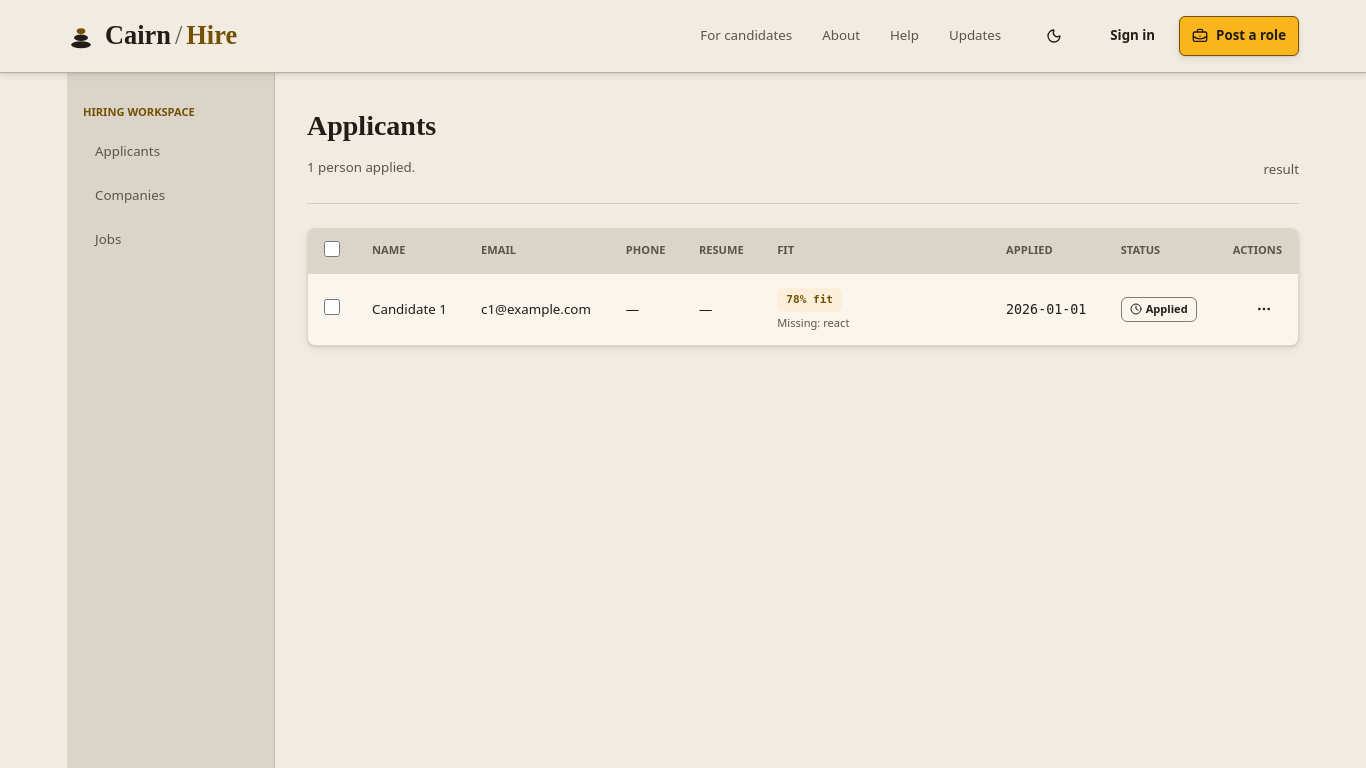
Test: Applicants › keeps the selection when the dialog is cancelled
This screenshot has width=1366, height=768.
Click the checkbox named "Select Candidate 1": [332, 307] box [324, 299, 340, 315]
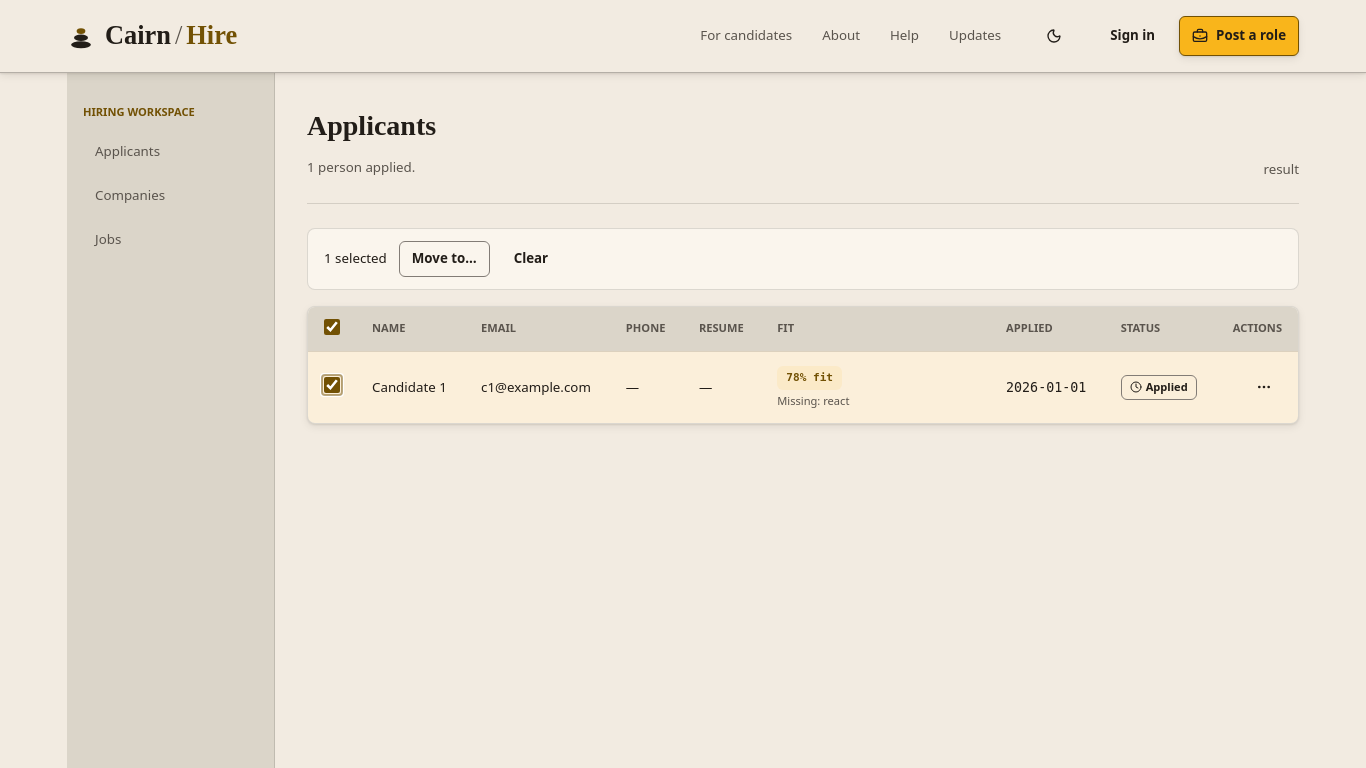
Click the button "Move to…": [444, 259] box [399, 241, 490, 277]
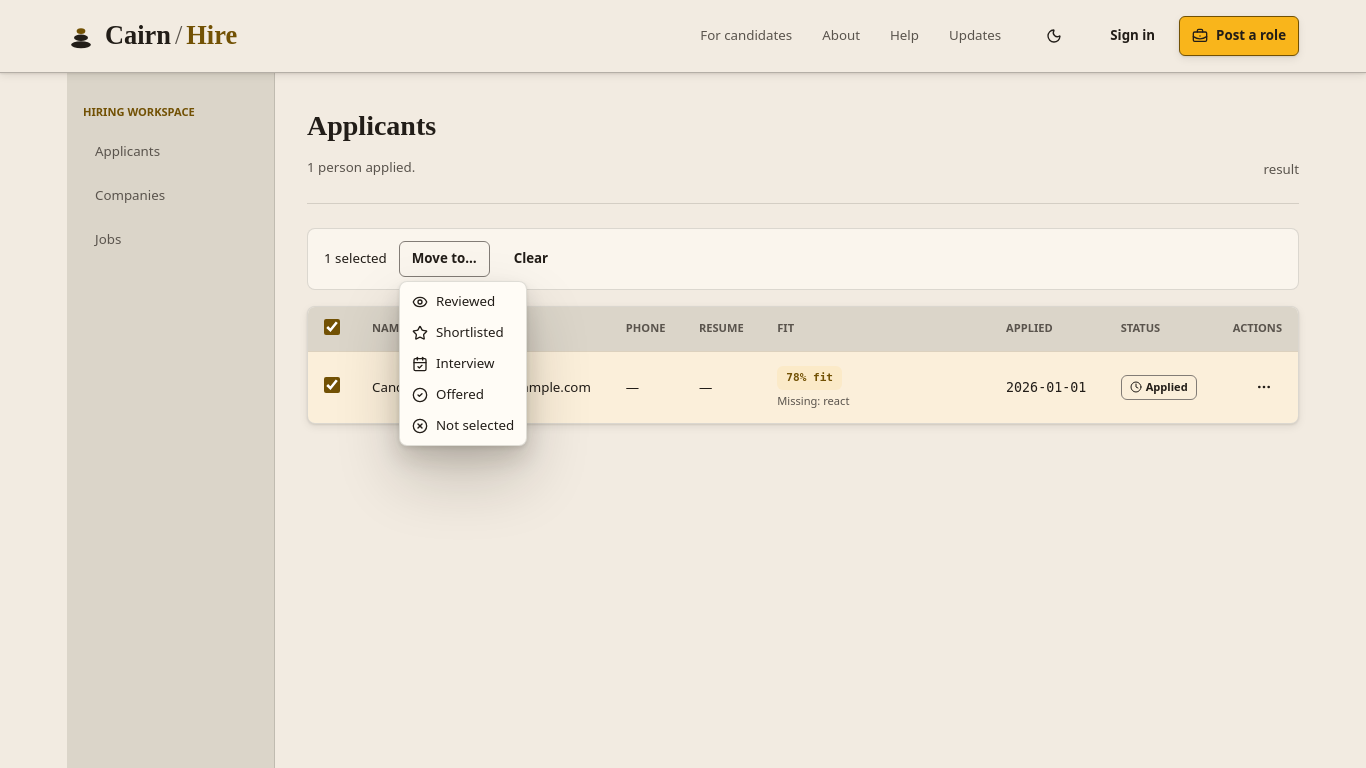
Click the menu item "Shortlisted": [458, 332] box [412, 323, 504, 341]
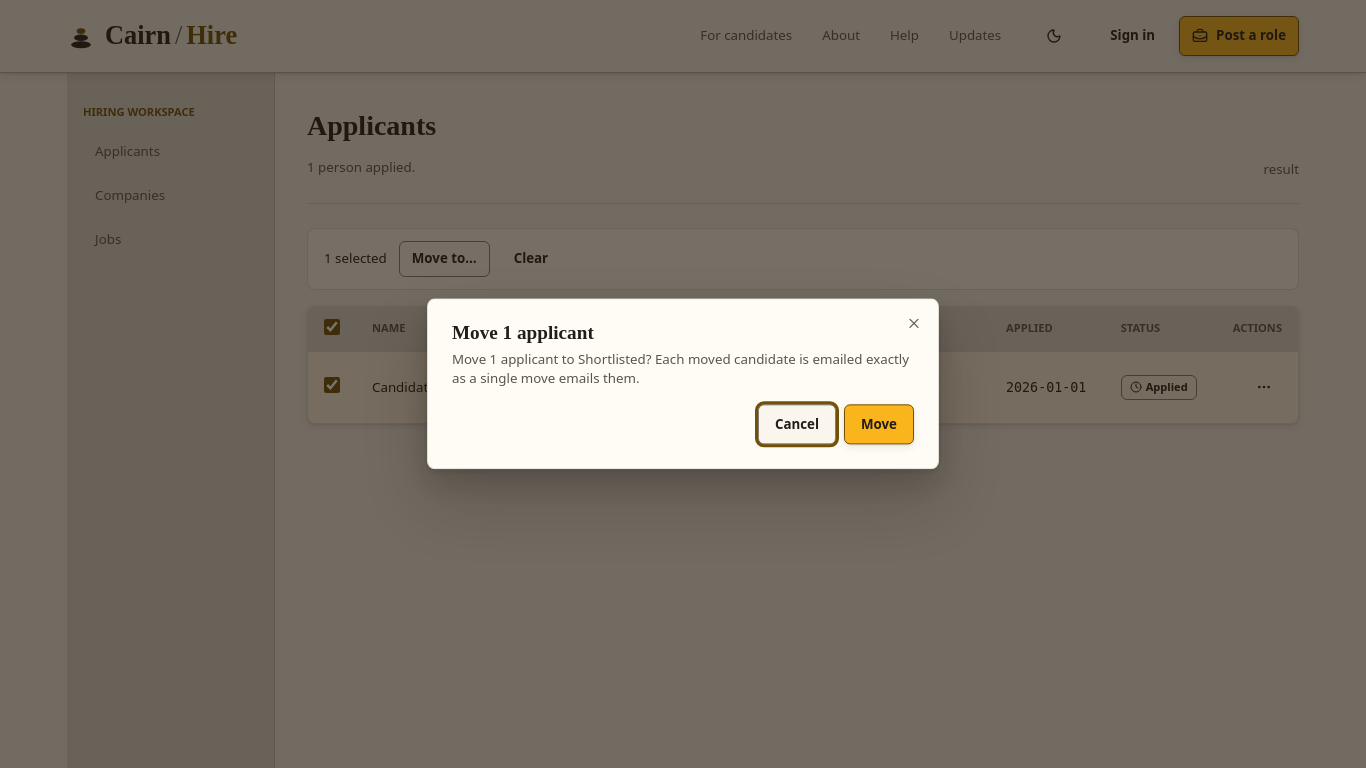
Click the button "Cancel": [797, 425] box [758, 405, 836, 445]
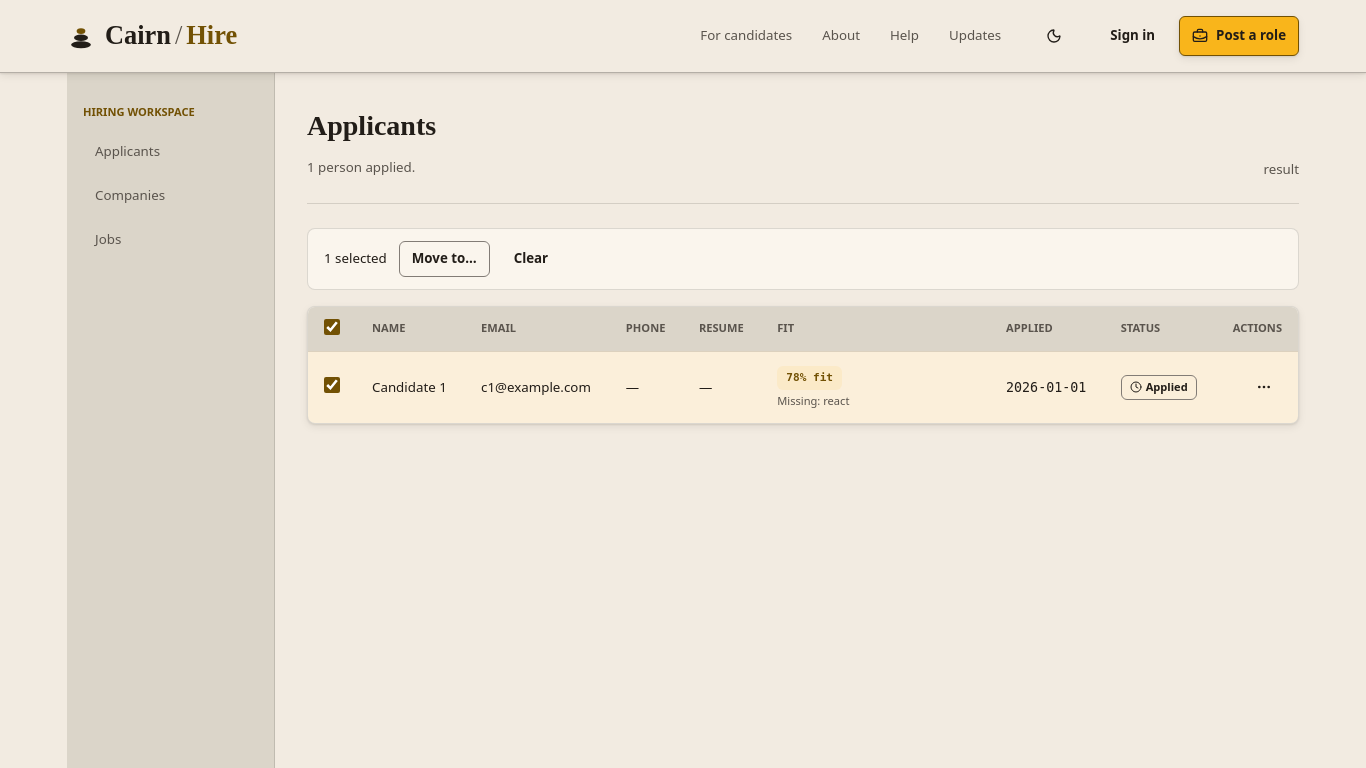
Expected: the text "1 selected" is shown, [324, 250, 387, 268]
Expected: the dialog is gone
